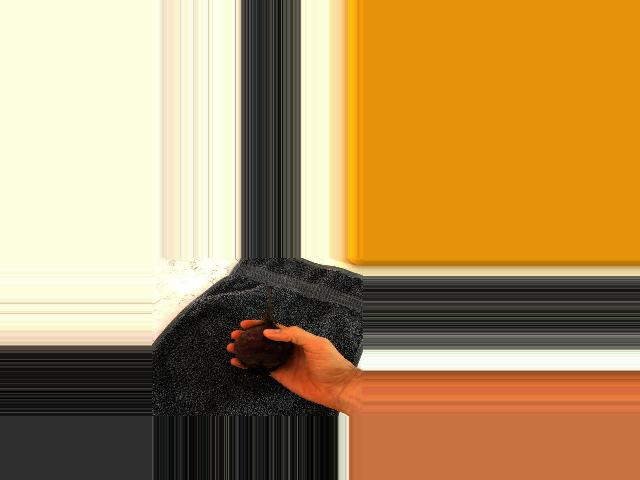beet: (233, 280, 291, 375)
